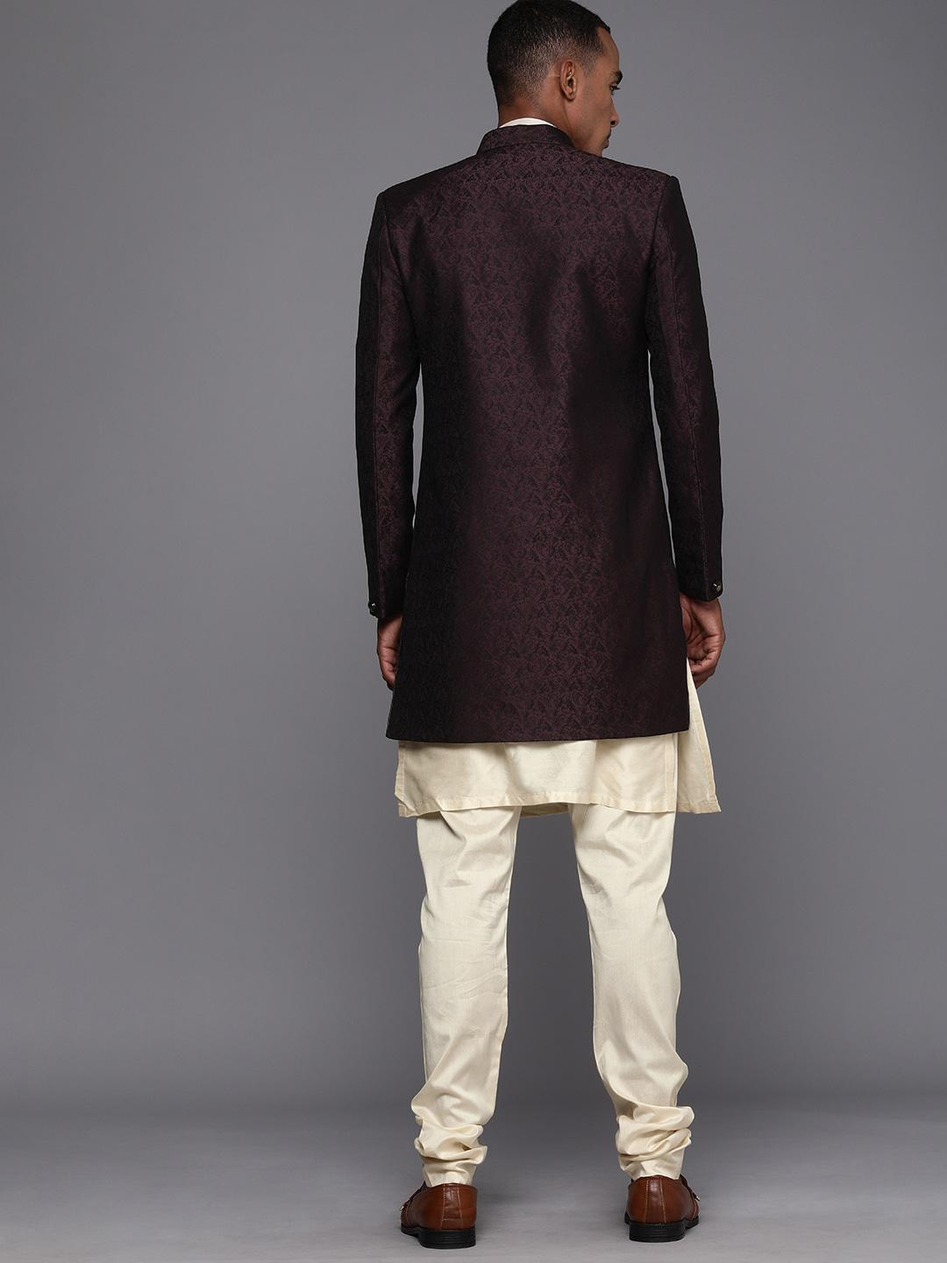Desgin sherwani: (351, 122, 724, 746)
